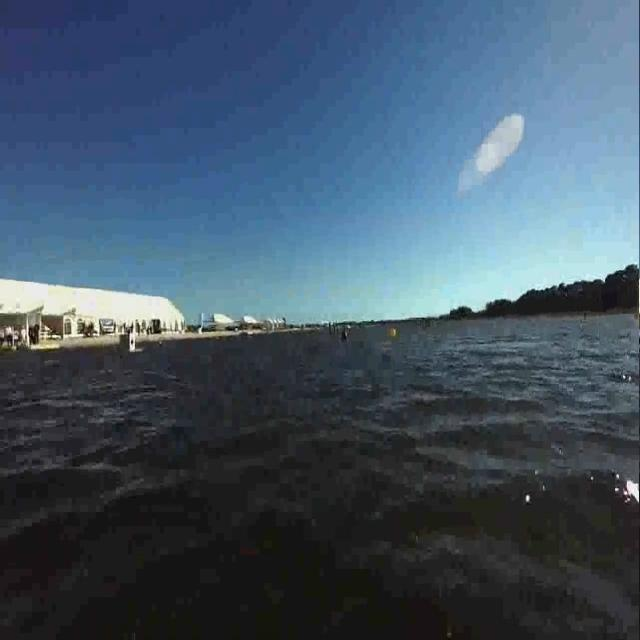blue-buoy: (340, 330, 349, 343)
yellow-buoy: (389, 326, 399, 340)
